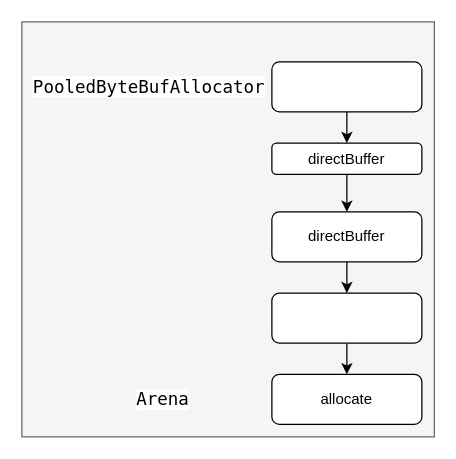
Image size: 456x459. Some labels were removed from this diagram. Each missing label, with the centre of its shape:
"buffer" goes at point (346, 86).
"newDirectBuffer" goes at point (346, 317).
